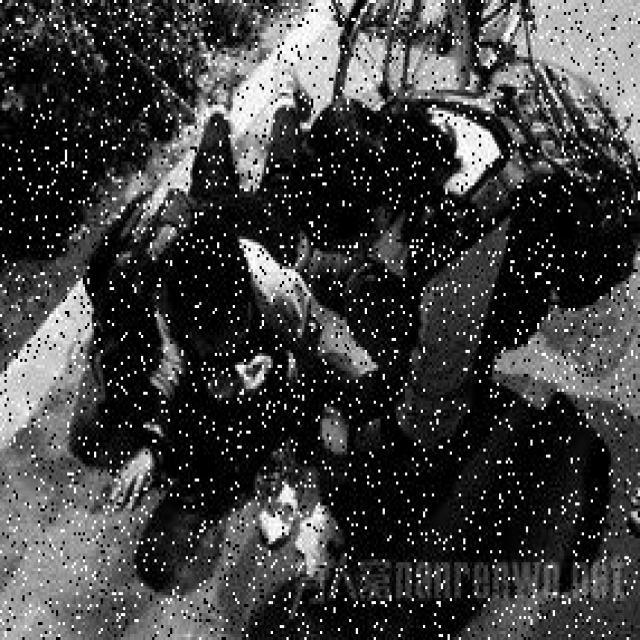fall: (125, 48, 309, 514)
